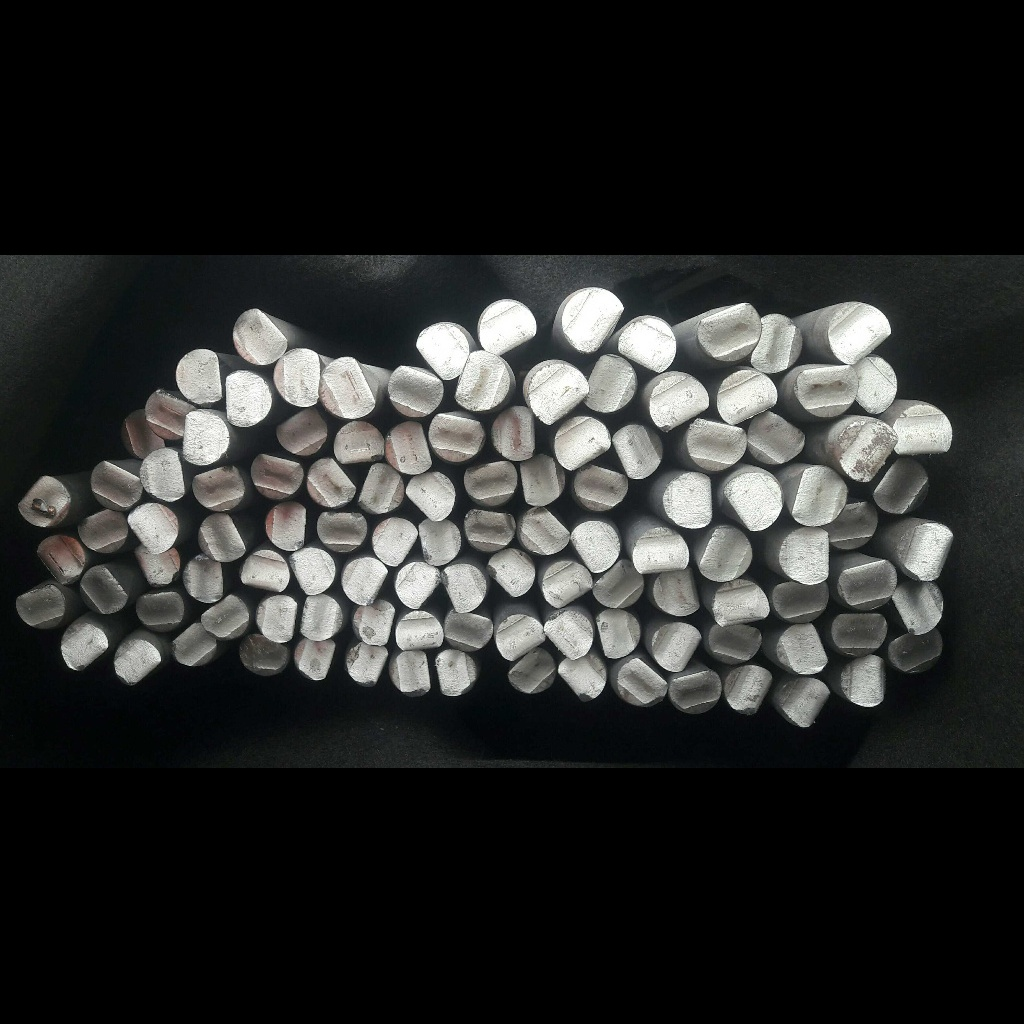dipstick: (562, 287, 626, 354), (829, 303, 892, 366), (837, 420, 899, 482), (698, 302, 761, 360), (529, 365, 590, 424), (321, 357, 379, 418), (788, 467, 847, 526), (871, 456, 930, 514), (580, 354, 637, 413), (717, 370, 777, 426), (455, 350, 510, 411), (725, 473, 782, 530), (898, 523, 954, 581), (491, 405, 550, 460), (796, 365, 857, 418), (747, 409, 805, 464), (650, 375, 709, 429), (687, 418, 746, 472), (232, 308, 287, 365), (554, 416, 612, 470), (415, 324, 470, 380), (479, 301, 536, 355), (748, 314, 800, 373), (619, 318, 675, 372), (664, 473, 720, 527), (894, 405, 952, 457), (274, 348, 325, 407), (846, 355, 897, 414), (838, 559, 897, 609), (633, 526, 688, 579), (840, 655, 896, 707), (891, 580, 943, 635), (779, 527, 829, 584), (700, 528, 753, 581), (388, 366, 442, 418), (429, 410, 483, 462), (334, 420, 385, 475), (611, 424, 662, 479), (223, 371, 272, 427), (353, 462, 405, 514), (139, 448, 190, 501), (145, 389, 198, 440), (176, 349, 226, 403), (385, 421, 435, 475), (779, 678, 833, 728), (18, 476, 70, 527), (591, 558, 644, 608), (777, 624, 830, 674), (830, 610, 887, 656), (80, 564, 131, 615), (276, 405, 328, 455), (570, 521, 620, 573), (119, 410, 172, 459), (192, 462, 245, 511), (464, 458, 517, 507), (828, 496, 877, 549), (250, 452, 304, 500), (128, 503, 179, 553), (651, 622, 702, 672), (518, 507, 571, 555), (574, 463, 627, 511), (183, 411, 229, 466), (653, 566, 703, 616), (90, 461, 141, 510), (198, 513, 249, 562), (516, 454, 565, 505), (888, 629, 943, 674), (184, 553, 233, 603), (371, 517, 421, 566), (406, 472, 455, 522), (542, 560, 593, 608), (713, 580, 768, 624), (772, 580, 828, 623), (342, 557, 391, 606), (307, 458, 356, 507), (543, 611, 593, 659), (593, 608, 640, 659), (286, 548, 335, 596), (557, 654, 606, 702), (619, 658, 667, 707), (725, 665, 773, 714), (670, 669, 722, 714), (496, 614, 546, 660), (37, 535, 85, 582), (61, 624, 109, 671), (487, 549, 534, 597), (266, 501, 312, 550), (508, 649, 558, 694), (16, 585, 67, 629), (465, 507, 516, 551), (114, 639, 161, 686), (256, 595, 303, 642), (241, 550, 289, 596), (79, 509, 128, 554), (317, 508, 366, 553), (708, 622, 761, 663), (395, 562, 441, 609), (352, 601, 399, 646), (441, 565, 486, 612), (394, 611, 444, 653), (240, 635, 291, 676), (136, 591, 184, 634), (444, 609, 492, 652), (201, 595, 248, 638), (299, 594, 342, 641), (419, 518, 461, 566), (345, 641, 389, 686), (172, 623, 217, 666), (393, 650, 435, 696), (435, 650, 477, 696), (294, 638, 338, 680), (135, 545, 180, 585)
